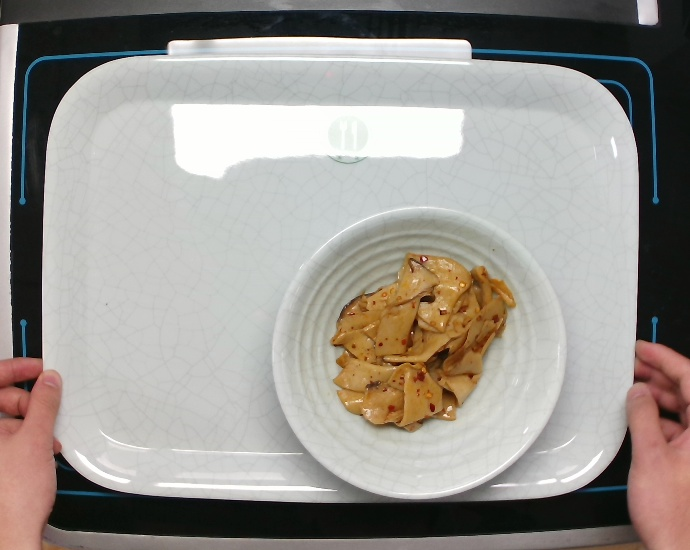JYsf-Xiao_Tang_Wan: (267, 201, 570, 505)
